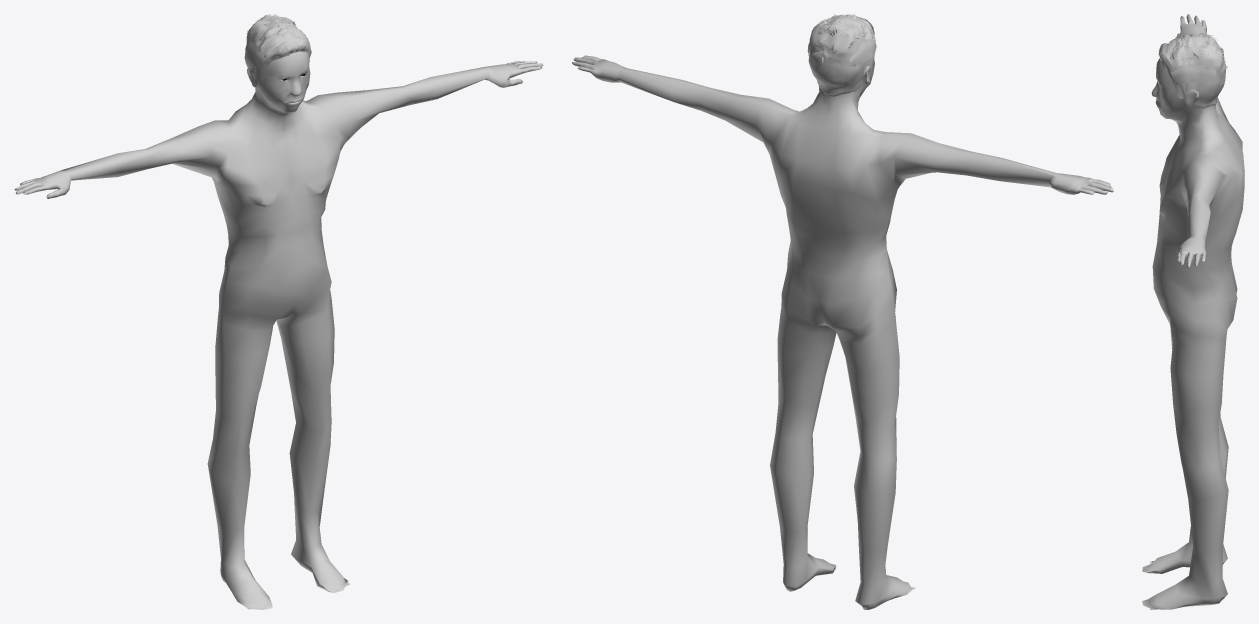
The model's file is Indio_Sem_osso.fbx.
3 renders of one model, left to right at view 1: azimuth 30°, elevation 25°; view 2: azimuth 150°, elevation 25°; view 3: azimuth 270°, elevation 25°, orthographic. The views are drawn at different scales.
Visible parts, largest first — view 1: female1605Mesh, short01Mesh; view 2: female1605Mesh, short01Mesh; view 3: female1605Mesh, short01Mesh.
Part boxes in pixels (x1,y1,x2,y2): female1605Mesh: (14, 51, 543, 609); short01Mesh: (244, 14, 311, 82); female1605Mesh: (572, 55, 1113, 609); short01Mesh: (807, 14, 876, 96); female1605Mesh: (1142, 14, 1244, 609); short01Mesh: (1158, 32, 1227, 108).
Size of the model in its own units: 63.49 by 64.74 by 10.91.
